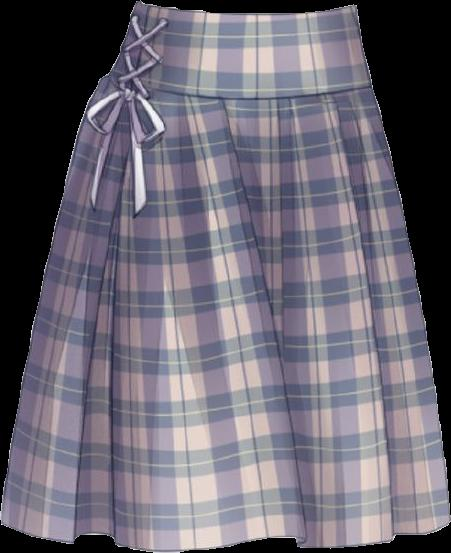Hemline: (0, 519, 450, 552)
Waistline: (106, 68, 373, 102), (135, 0, 355, 17)
